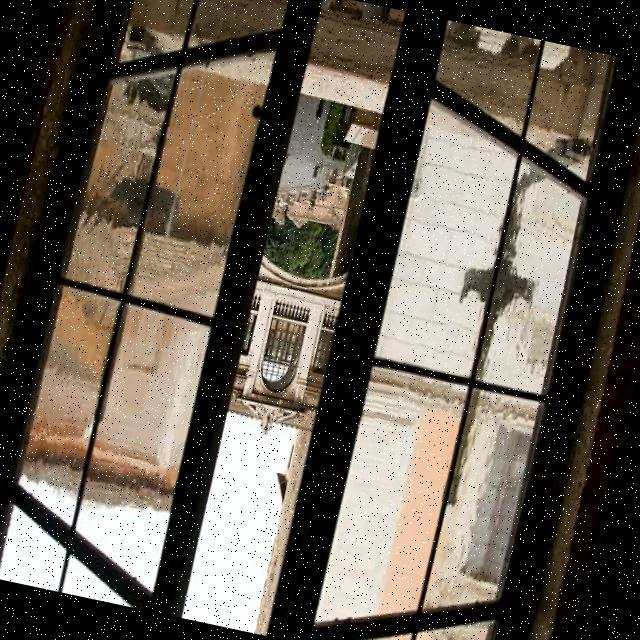Window: (307, 18, 622, 640), (0, 0, 287, 612)
